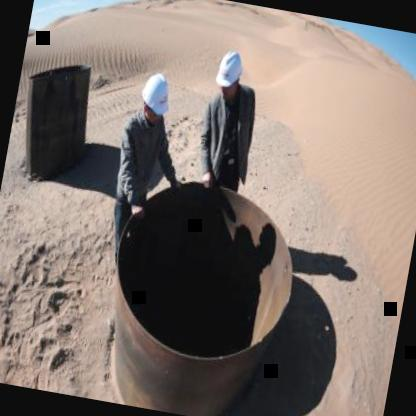helmet: (134, 68, 176, 129), (210, 41, 249, 104)
